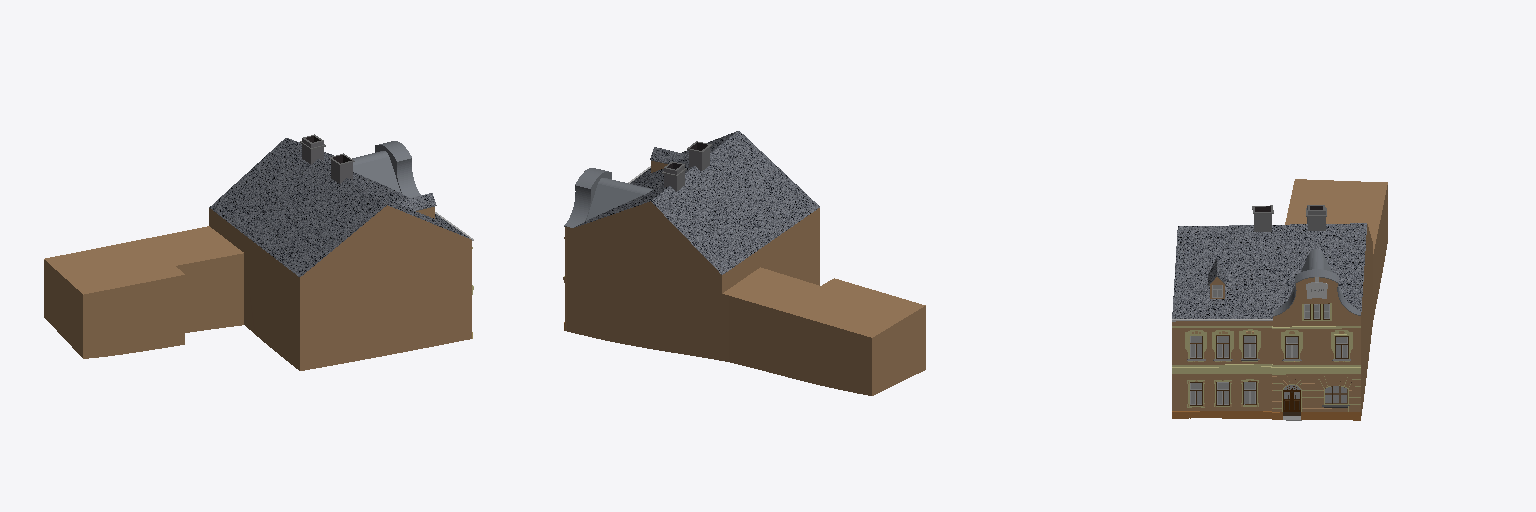
The picture shows the model from 3 angles: view 1: azimuth 30°, elevation 25°; view 2: azimuth 150°, elevation 25°; view 3: azimuth 270°, elevation 25°; orthographic projection.
Visible parts, largest first — view 1: Model_Model.003; view 2: Model_Model.003; view 3: Model_Model.003.
Boxes of the visible parts, <box> form: Model_Model.003: <box>44,134,473,370</box>; Model_Model.003: <box>563,131,925,395</box>; Model_Model.003: <box>1172,179,1387,420</box>.
Bounding box in the file's own units: 2.56 × 1.26 × 1.45.
20 materials, 1 textured.